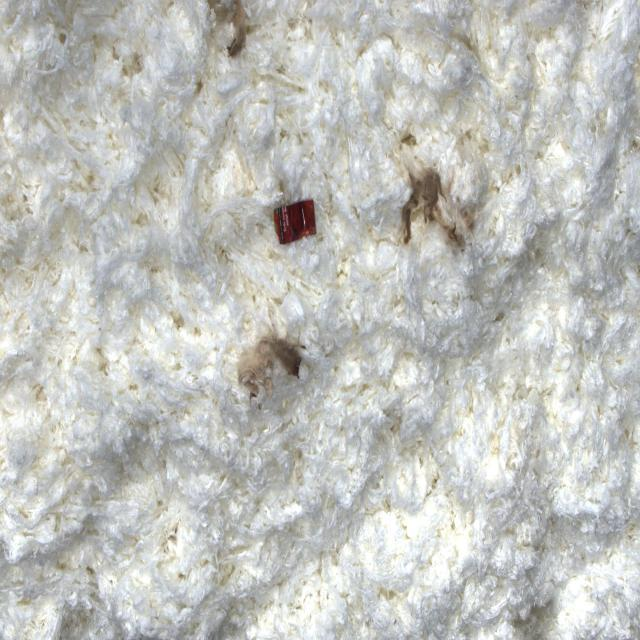dust: (397, 133, 469, 253), (232, 329, 310, 398), (202, 0, 263, 68), (266, 185, 319, 255)
